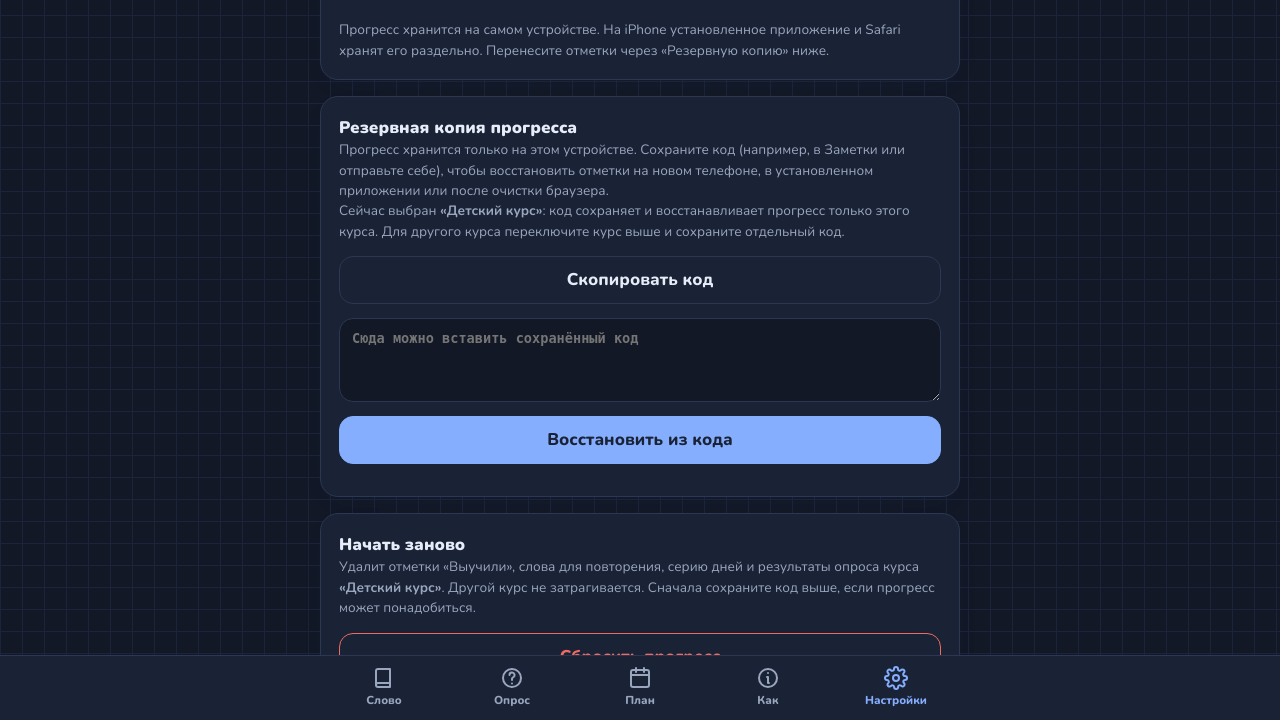
Test: "Восстановить из кода" › broken → its status
(page scrolled)
Type "SD1.k.%%%" into the text box named "Код прогресса".
click(640, 360); type("SD1.k.%%%")  # box left=339, top=318, right=941, bottom=402
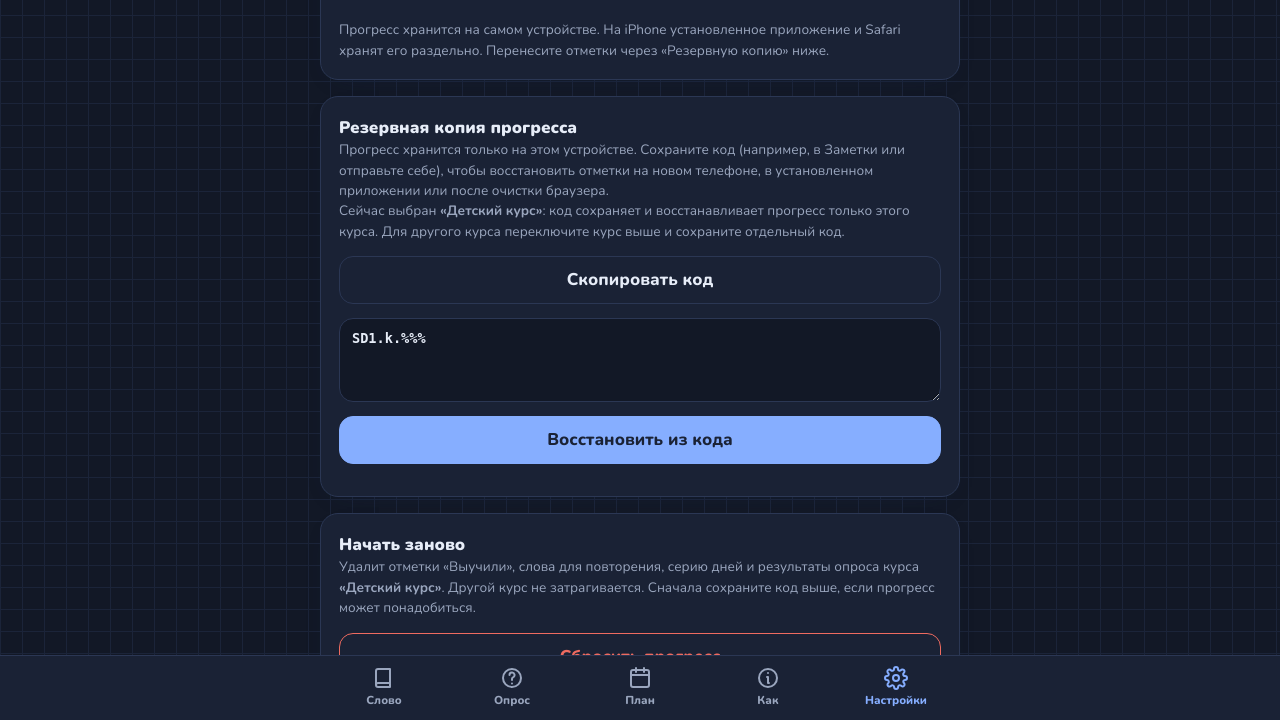
Click the button "Восстановить из кода".
click(640, 440)  # box left=339, top=416, right=941, bottom=464
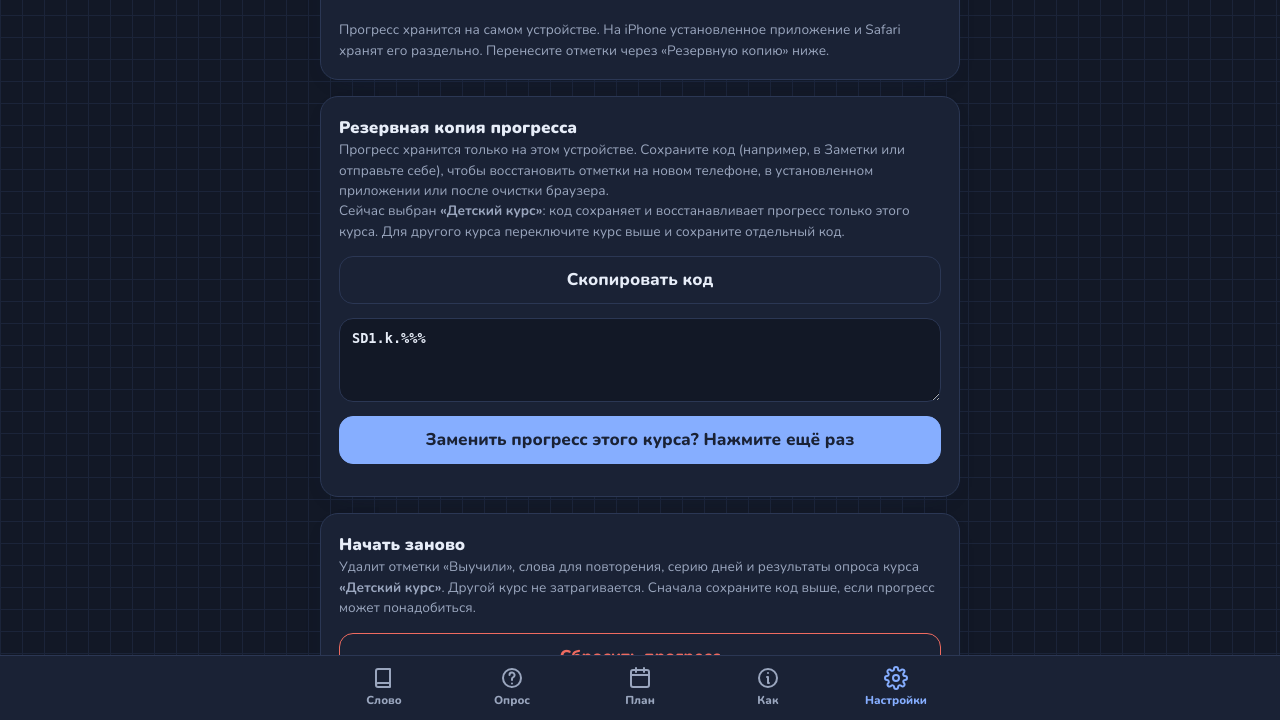
Click the button "Заменить прогресс этого курса? Нажмите ещё раз".
click(640, 440)  # box left=339, top=416, right=941, bottom=464
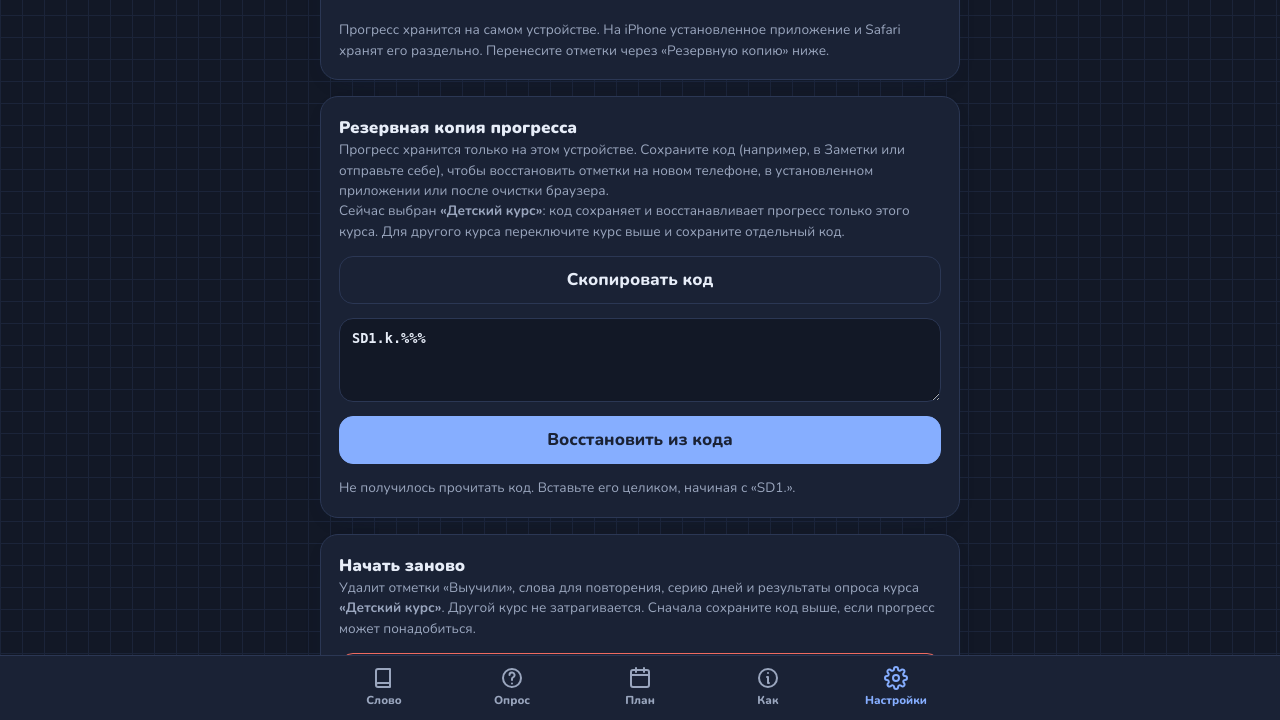
Result: the message reads "Не получилось прочитать код. Вставьте его целиком, начиная с «SD1.»." at left=339, top=478, right=795, bottom=497
